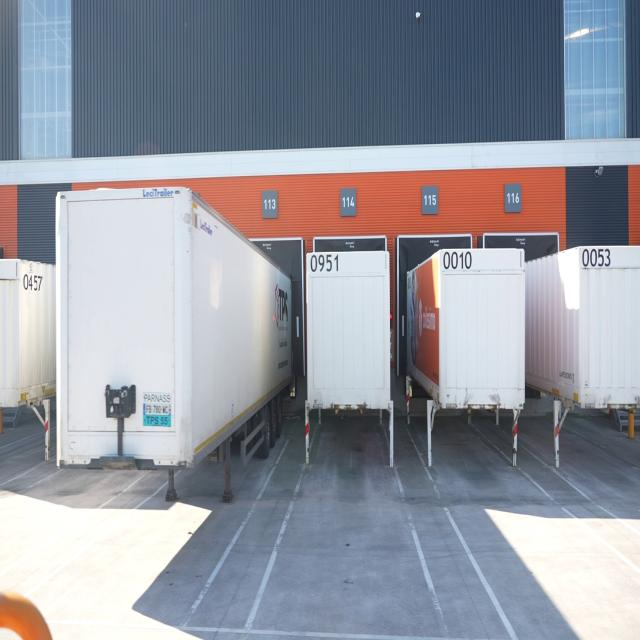Code: (306, 246, 339, 280), (578, 245, 614, 273), (441, 248, 473, 272), (20, 269, 45, 294)
